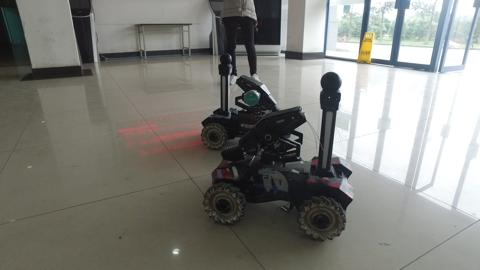chariot: (208, 69, 352, 246), (195, 53, 291, 150)
